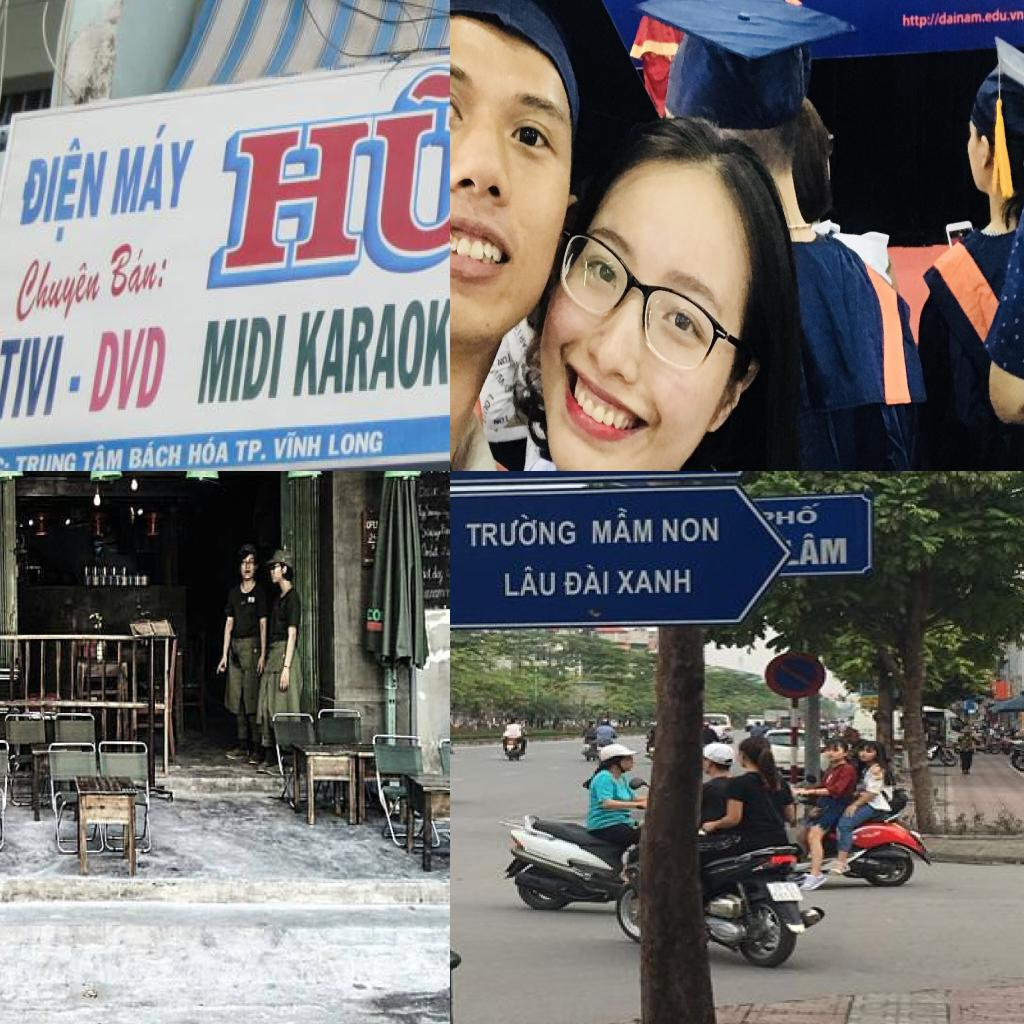text: (195, 36, 450, 292), (290, 290, 450, 404), (12, 136, 114, 242), (193, 309, 290, 410), (106, 120, 203, 218), (80, 318, 174, 415), (0, 327, 72, 425), (8, 254, 104, 323), (461, 512, 581, 552), (105, 238, 176, 297), (587, 506, 657, 547), (613, 567, 695, 598), (501, 562, 559, 600), (323, 425, 389, 458), (796, 530, 852, 568), (658, 514, 724, 546), (559, 562, 613, 598), (936, 5, 1024, 27), (125, 439, 188, 468), (272, 429, 325, 461), (13, 447, 78, 471), (186, 432, 232, 464), (81, 440, 127, 471), (772, 502, 824, 528), (232, 432, 271, 464), (902, 10, 942, 30), (480, 391, 496, 419), (516, 326, 530, 352), (0, 447, 15, 471), (497, 351, 513, 369), (494, 371, 506, 391)
